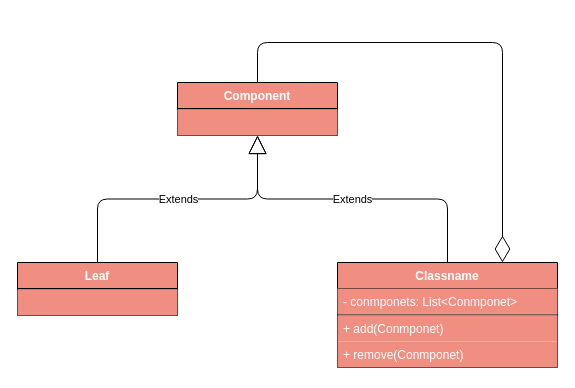
The diagram is 575 pixels wide and 388 high, and some of its shapes have lost their labels. Here are the shapes that lost their labels. From the top down, the centre of each, then its label:
point 257,122: + method()
point 97,302: + method(type)
